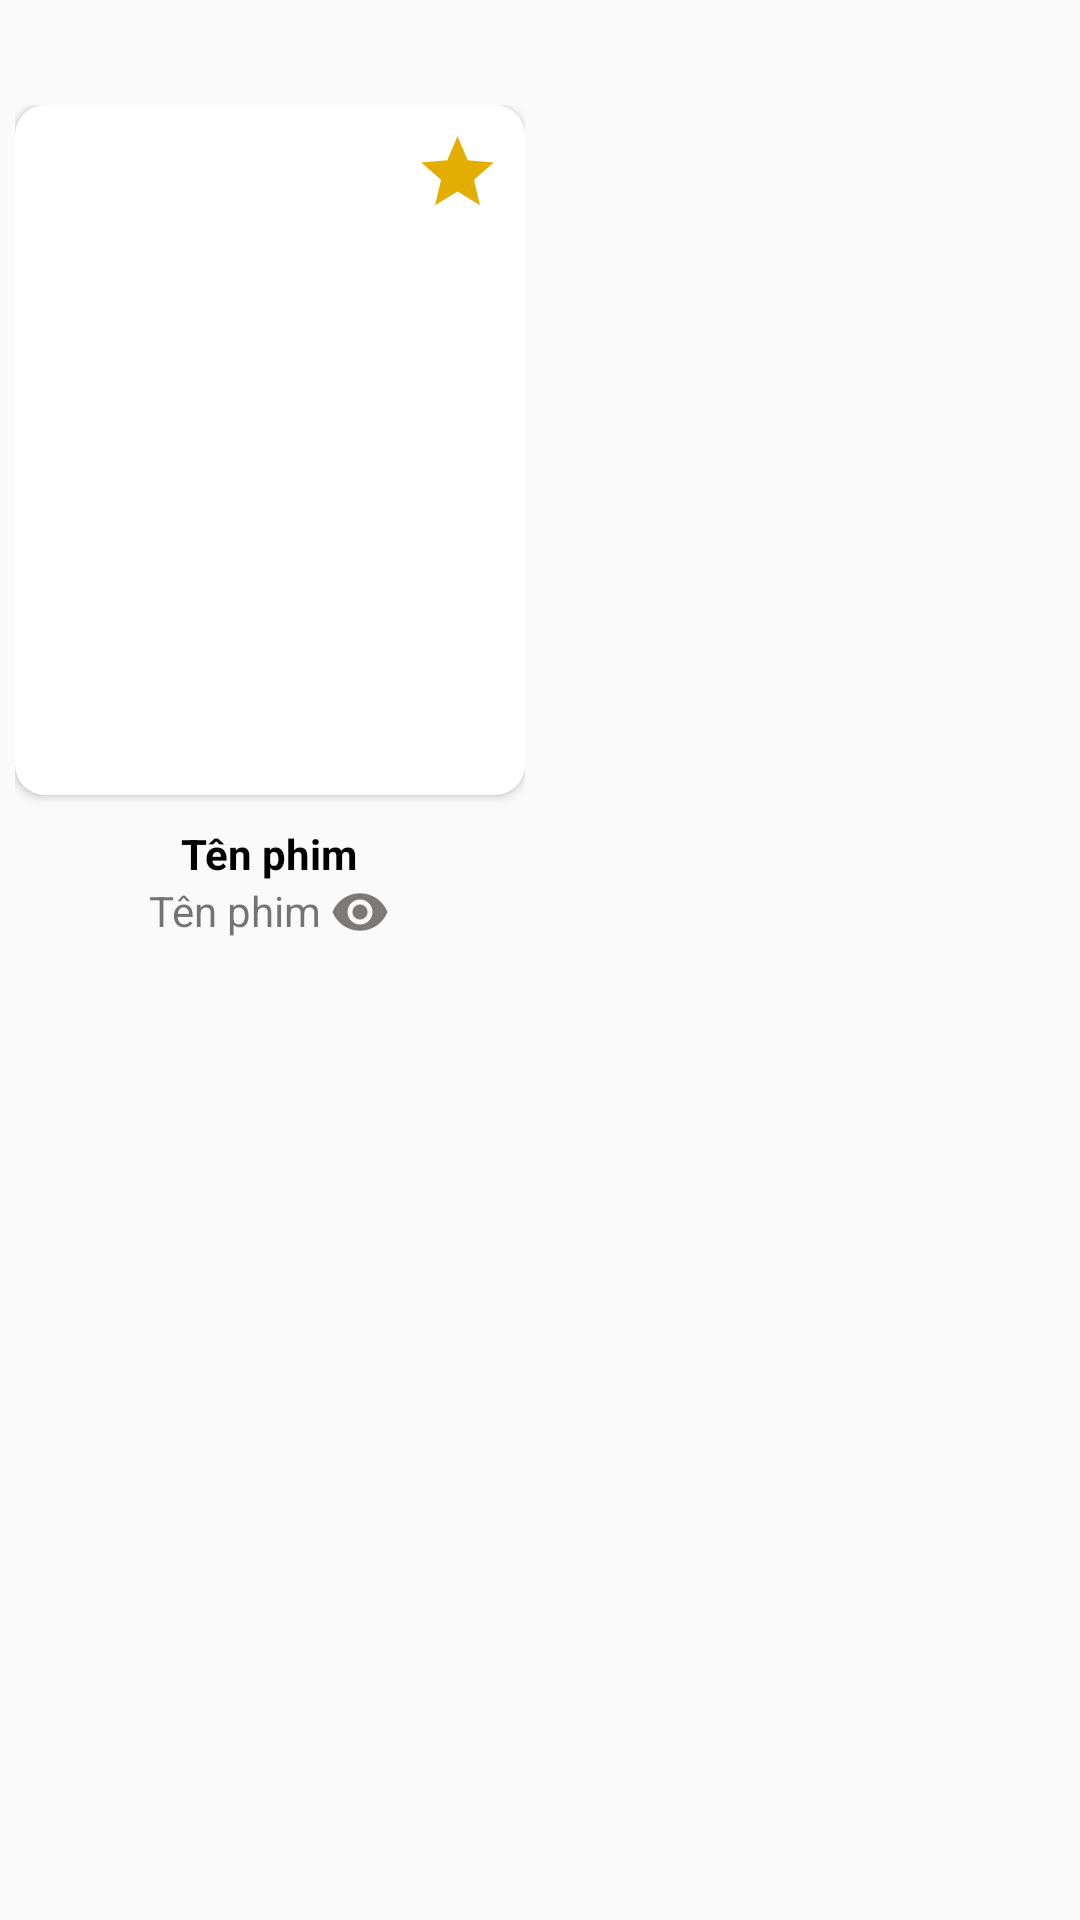

Icon bounding boxes for this 1080×1920 phone screenshot, format (x1, y1, x2, y2):
Favorite icon: (421, 105, 525, 205)
visibility: (332, 893, 388, 931)
